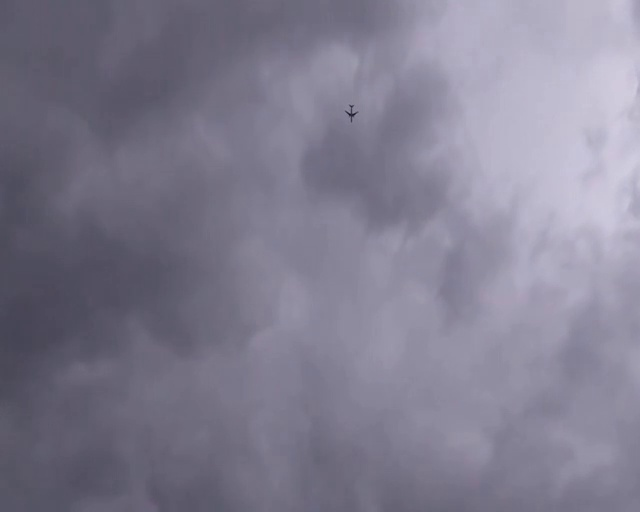AIRPLANE: (344, 103, 359, 122)
